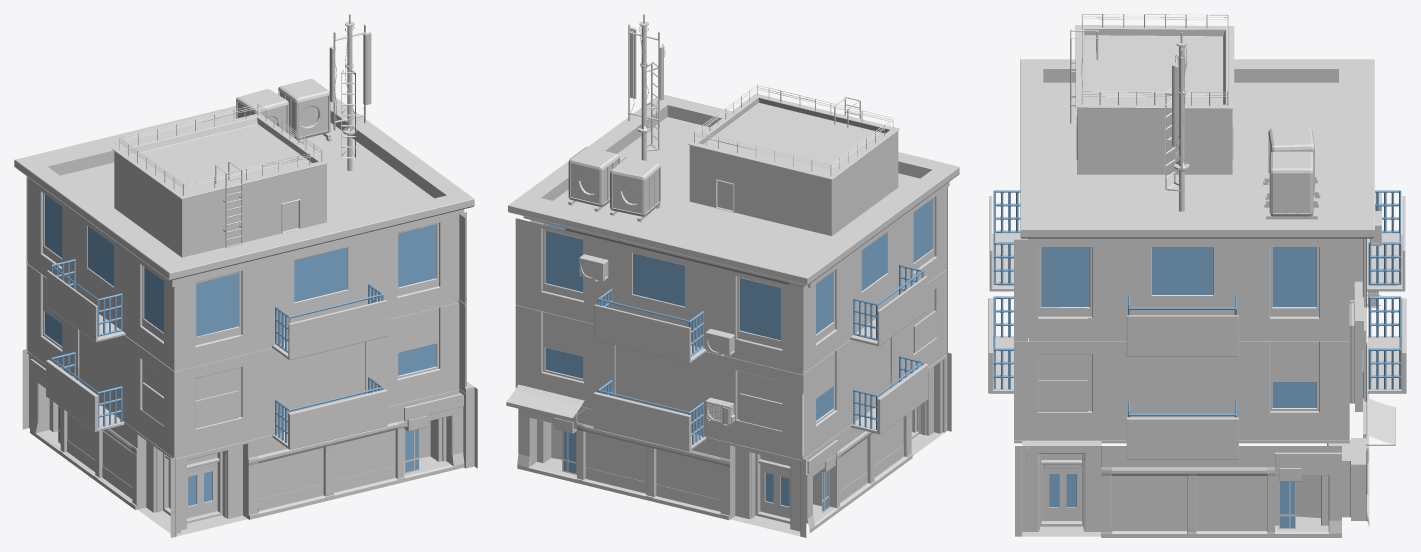
File: Build21.fbx
3 renders of one model, left to right at view 1: azimuth 30°, elevation 25°; view 2: azimuth 150°, elevation 25°; view 3: azimuth 270°, elevation 25°, orthographic. The views are drawn at different scales.
Parts seen in each view (by area): view 1: Building_21.002|Moldular_building_59.005|Dupli|12, Building_21.002|Moldular_building_59.006|Dupli|14, Building_21.002|Cube.002|Dupli|11, Building_21.002|Roof_deco_3_small_structure.005|Dupli|1, Building_21.002|Ground_store_7.003|Dupli|13, Building_21.002|Ground_store_7.007|Dupli|15, Building_21.002|Roof_deco_7_antenna.002|Dupli|, Building_21.002|Roof_deco_16_ac_unit.002|Dupli|3, Building_21.002|Ground_store_7.008|Dupli|17, Building_21.002|Roof_deco_16_ac_unit.001|Dupli|2, Building_21.002|Moldular_building_59.007|Dupli|16, Building_21.002|Ground_store_7.001|Dupli|5; view 2: Building_21.002|Moldular_building_59.004|Dupli|4, Building_21.002|Cube.002|Dupli|11, Building_21.002|Moldular_building_59.006|Dupli|14, Building_21.002|Roof_deco_3_small_structure.005|Dupli|1, Building_21.002|Ground_store_7.001|Dupli|5, Building_21.002|Ground_store_7.007|Dupli|15, Building_21.002|Roof_deco_16_ac_unit.001|Dupli|2, Building_21.002|Roof_deco_7_antenna.002|Dupli|, Building_21.002|Roof_deco_16_ac_unit.002|Dupli|3, Building_21.002|Facade_decoration_7_awning_1.002|Dupli|6, Building_21.002|Ground_store_7.003|Dupli|13, Building_21.002|Facade_decoration_5_ac.001|Dupli|7 (+2 smaller); view 3: Building_21.002|Moldular_building_59.007|Dupli|16, Building_21.002|Cube.002|Dupli|11, Building_21.002|Ground_store_7.008|Dupli|17, Building_21.002|Roof_deco_3_small_structure.005|Dupli|1, Building_21.002|Moldular_building_59.004|Dupli|4, Building_21.002|Moldular_building_59.005|Dupli|12, Building_21.002|Ground_store_7.001|Dupli|5, Building_21.002|Roof_deco_16_ac_unit.002|Dupli|3, Building_21.002|Roof_deco_7_antenna.002|Dupli|, Building_21.002|Roof_deco_16_ac_unit.001|Dupli|2, Building_21.002|Facade_decoration_7_awning_1.002|Dupli|6, Building_21.002|Moldular_building_59.006|Dupli|14.
Boxes of the visible parts, bbox=[...] form: Building_21.002|Moldular_building_59.005|Dupli|12: bbox=[174, 212, 466, 461]; Building_21.002|Moldular_building_59.006|Dupli|14: bbox=[27, 177, 174, 458]; Building_21.002|Cube.002|Dupli|11: bbox=[14, 97, 474, 287]; Building_21.002|Roof_deco_3_small_structure.005|Dupli|1: bbox=[112, 104, 328, 257]; Building_21.002|Ground_store_7.003|Dupli|13: bbox=[170, 389, 464, 537]; Building_21.002|Ground_store_7.007|Dupli|15: bbox=[30, 354, 180, 536]; Building_21.002|Roof_deco_7_antenna.002|Dupli|: bbox=[329, 14, 371, 171]; Building_21.002|Roof_deco_16_ac_unit.002|Dupli|3: bbox=[278, 79, 331, 144]; Building_21.002|Ground_store_7.008|Dupli|17: bbox=[442, 381, 477, 468]; Building_21.002|Roof_deco_16_ac_unit.001|Dupli|2: bbox=[236, 89, 288, 133]; Building_21.002|Moldular_building_59.007|Dupli|16: bbox=[458, 214, 465, 395]; Building_21.002|Ground_store_7.001|Dupli|5: bbox=[22, 349, 31, 429]; Building_21.002|Moldular_building_59.004|Dupli|4: bbox=[515, 218, 802, 462]; Building_21.002|Cube.002|Dupli|11: bbox=[508, 94, 959, 391]; Building_21.002|Moldular_building_59.006|Dupli|14: bbox=[803, 188, 947, 459]; Building_21.002|Roof_deco_3_small_structure.005|Dupli|1: bbox=[687, 85, 899, 236]; Building_21.002|Ground_store_7.001|Dupli|5: bbox=[517, 406, 806, 537]; Building_21.002|Ground_store_7.007|Dupli|15: bbox=[806, 354, 947, 533]; Building_21.002|Roof_deco_16_ac_unit.001|Dupli|2: bbox=[610, 157, 660, 222]; Building_21.002|Roof_deco_7_antenna.002|Dupli|: bbox=[628, 14, 665, 160]; Building_21.002|Roof_deco_16_ac_unit.002|Dupli|3: bbox=[568, 146, 619, 211]; Building_21.002|Facade_decoration_7_awning_1.002|Dupli|6: bbox=[506, 383, 584, 421]; Building_21.002|Ground_store_7.003|Dupli|13: bbox=[802, 352, 951, 433]; Building_21.002|Facade_decoration_5_ac.001|Dupli|7: bbox=[705, 397, 734, 425]; Building_21.002|Moldular_building_59.007|Dupli|16: bbox=[1014, 239, 1349, 459]; Building_21.002|Cube.002|Dupli|11: bbox=[1020, 59, 1374, 246]; Building_21.002|Ground_store_7.008|Dupli|17: bbox=[1015, 441, 1341, 537]; Building_21.002|Roof_deco_3_small_structure.005|Dupli|1: bbox=[1070, 14, 1234, 174]; Building_21.002|Moldular_building_59.004|Dupli|4: bbox=[1362, 190, 1406, 444]; Building_21.002|Moldular_building_59.005|Dupli|12: bbox=[988, 190, 1028, 440]; Building_21.002|Ground_store_7.001|Dupli|5: bbox=[1327, 281, 1369, 526]; Building_21.002|Roof_deco_16_ac_unit.002|Dupli|3: bbox=[1264, 151, 1318, 219]; Building_21.002|Roof_deco_7_antenna.002|Dupli|: bbox=[1165, 32, 1189, 211]; Building_21.002|Roof_deco_16_ac_unit.001|Dupli|2: bbox=[1263, 127, 1320, 199]; Building_21.002|Facade_decoration_7_awning_1.002|Dupli|6: bbox=[1366, 397, 1395, 445]; Building_21.002|Moldular_building_59.006|Dupli|14: bbox=[1349, 238, 1362, 284].
Bounding box in the file's own units: 1523 × 1749 × 1400.
